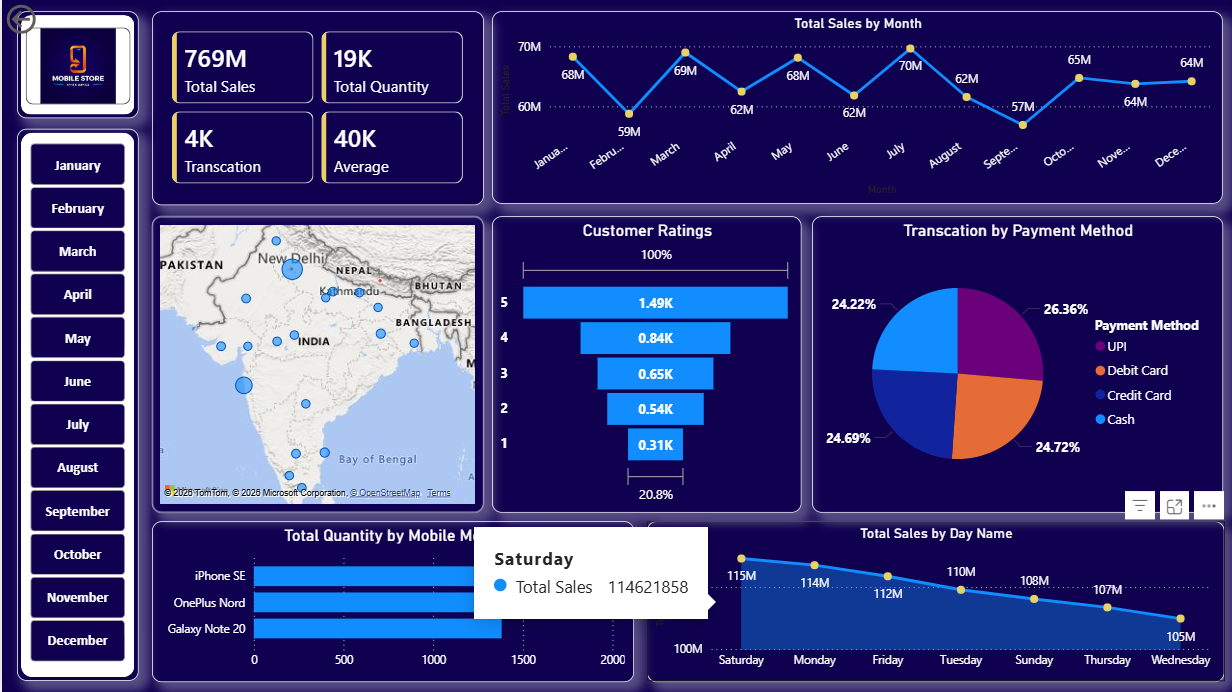

This screenshot's page, from the dashboard's own definition file:
{"tool":"powerbi","page":{"name":"Page 1","canvas":[1280,720],"ordinal":0},"visuals":[{"type":"shape","box":[15.9,11.6,126.1,111.6],"z":0},{"type":"shape","box":[15.9,133.3,126.1,573.9],"z":1000},{"type":"image","box":[24.6,29,108.7,79.7],"z":2000},{"type":"actionButton","box":[0,0,100,40],"z":3000},{"type":"cardVisual","fields":{"Data":["Mobile_Sales_Data.Total Sales","Mobile_Sales_Data.Total Quantity","Mobile_Sales_Data.Transcation","Mobile_Sales_Data.Average"]},"box":[155.4,12.2,344.6,201.4],"z":4000},{"type":"map","fields":{"Category":["Mobile_Sales_Data.City"],"Size":["Mobile_Sales_Data.Total Sales"]},"box":[155.4,224.3,344.6,308.1],"z":5000},{"type":"lineChart","fields":{"Category":["Mobile_Sales_Data.Date.Variation.Date Hierarchy.Month","Mobile_Sales_Data.Date.Variation.Date Hierarchy.Day"],"Y":["Mobile_Sales_Data.Total Sales"]},"box":[509.5,12.2,759.5,200],"z":6000},{"type":"clusteredBarChart","fields":{"Category":["Mobile_Sales_Data.Mobile Model"],"Y":["Mobile_Sales_Data.Total Quantity"]},"box":[155.8,541.1,500.6,166.9],"z":7000},{"type":"advancedSlicerVisual","fields":{"Values":["Mobile_Sales_Data.Date.Variation.Date Hierarchy.Month"]},"box":[24.3,144.6,108.1,548.6],"z":8000},{"type":"pieChart","fields":{"Category":["Mobile_Sales_Data.Payment Method"],"Y":["Mobile_Sales_Data.Transcation"]},"box":[841.7,224.5,427,308],"z":8001},{"type":"funnel","title":" Customer Ratings","fields":{"Category":["Mobile_Sales_Data.Customer Ratings"],"Y":["CountNonNull(Mobile_Sales_Data.Customer Ratings)"]},"box":[509.2,224.5,321.5,308],"z":8002},{"type":"areaChart","title":"Total Sales by Day Name","fields":{"Category":["Mobile_Sales_Data.Day Name.1"],"Y":["Mobile_Sales_Data.Total Sales"]},"box":[669.9,541.1,600,166.9],"z":8003}]}

Visuals, with their boxes in screenshot pixels (x1, y1, x2, y2), scaled from the page's 1280x720 canvas onto the 1232x692 screenshot:
shape: [left=15, top=11, right=137, bottom=118]
shape: [left=15, top=128, right=137, bottom=680]
image: [left=24, top=28, right=128, bottom=104]
actionButton: [left=0, top=0, right=96, bottom=38]
cardVisual - Mobile_Sales_Data.Total Sales x Mobile_Sales_Data.Total Quantity: [left=150, top=12, right=481, bottom=205]
map - Mobile_Sales_Data.City x Mobile_Sales_Data.Total Sales: [left=150, top=216, right=481, bottom=512]
lineChart - Mobile_Sales_Data.Date.Variation.Date Hierarchy.Month x Mobile_Sales_Data.Date.Variation.Date Hierarchy.Day: [left=490, top=12, right=1221, bottom=204]
clusteredBarChart - Mobile_Sales_Data.Mobile Model x Mobile_Sales_Data.Total Quantity: [left=150, top=520, right=632, bottom=680]
advancedSlicerVisual - Mobile_Sales_Data.Date.Variation.Date Hierarchy.Month: [left=23, top=139, right=127, bottom=666]
pieChart - Mobile_Sales_Data.Payment Method x Mobile_Sales_Data.Transcation: [left=810, top=216, right=1221, bottom=512]
" Customer Ratings" funnel: [left=490, top=216, right=800, bottom=512]
"Total Sales by Day Name" areaChart: [left=645, top=520, right=1222, bottom=680]
